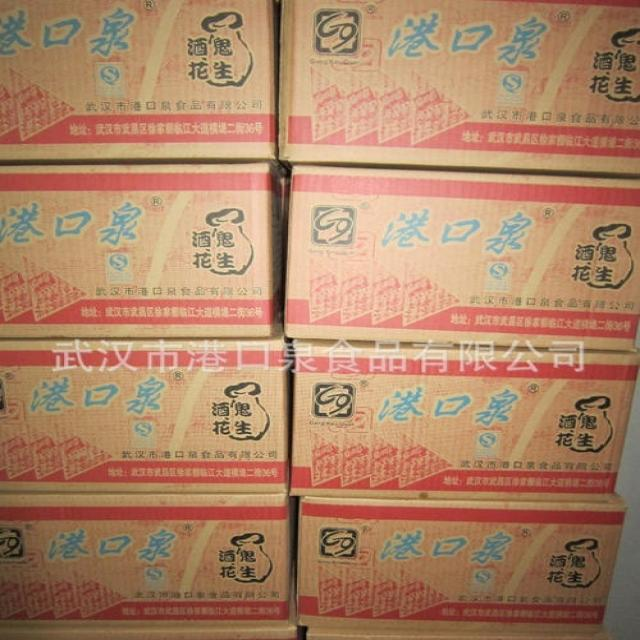box: (283, 166, 640, 350), (289, 340, 640, 502), (0, 163, 282, 338), (297, 493, 626, 632), (0, 338, 288, 493), (0, 493, 296, 631)
